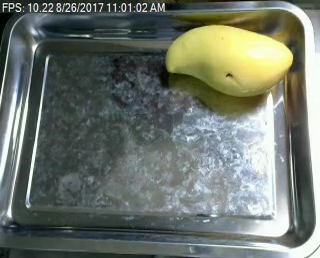Mango: (160, 21, 296, 99)
